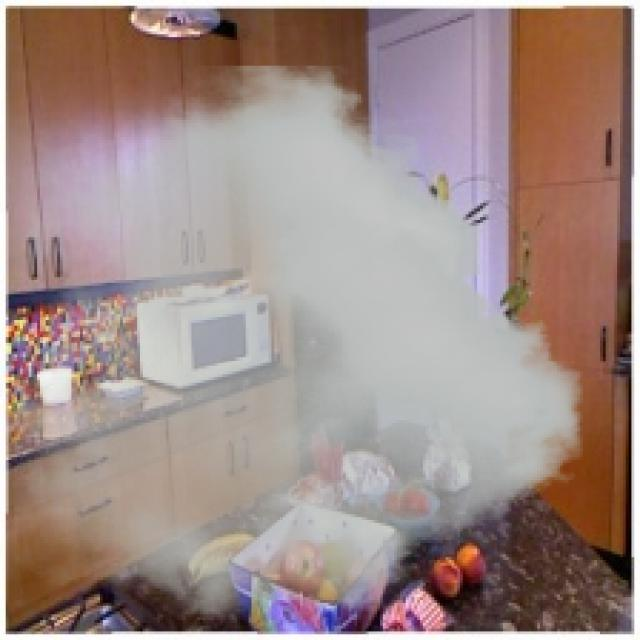smoke: (14, 66, 583, 620)
